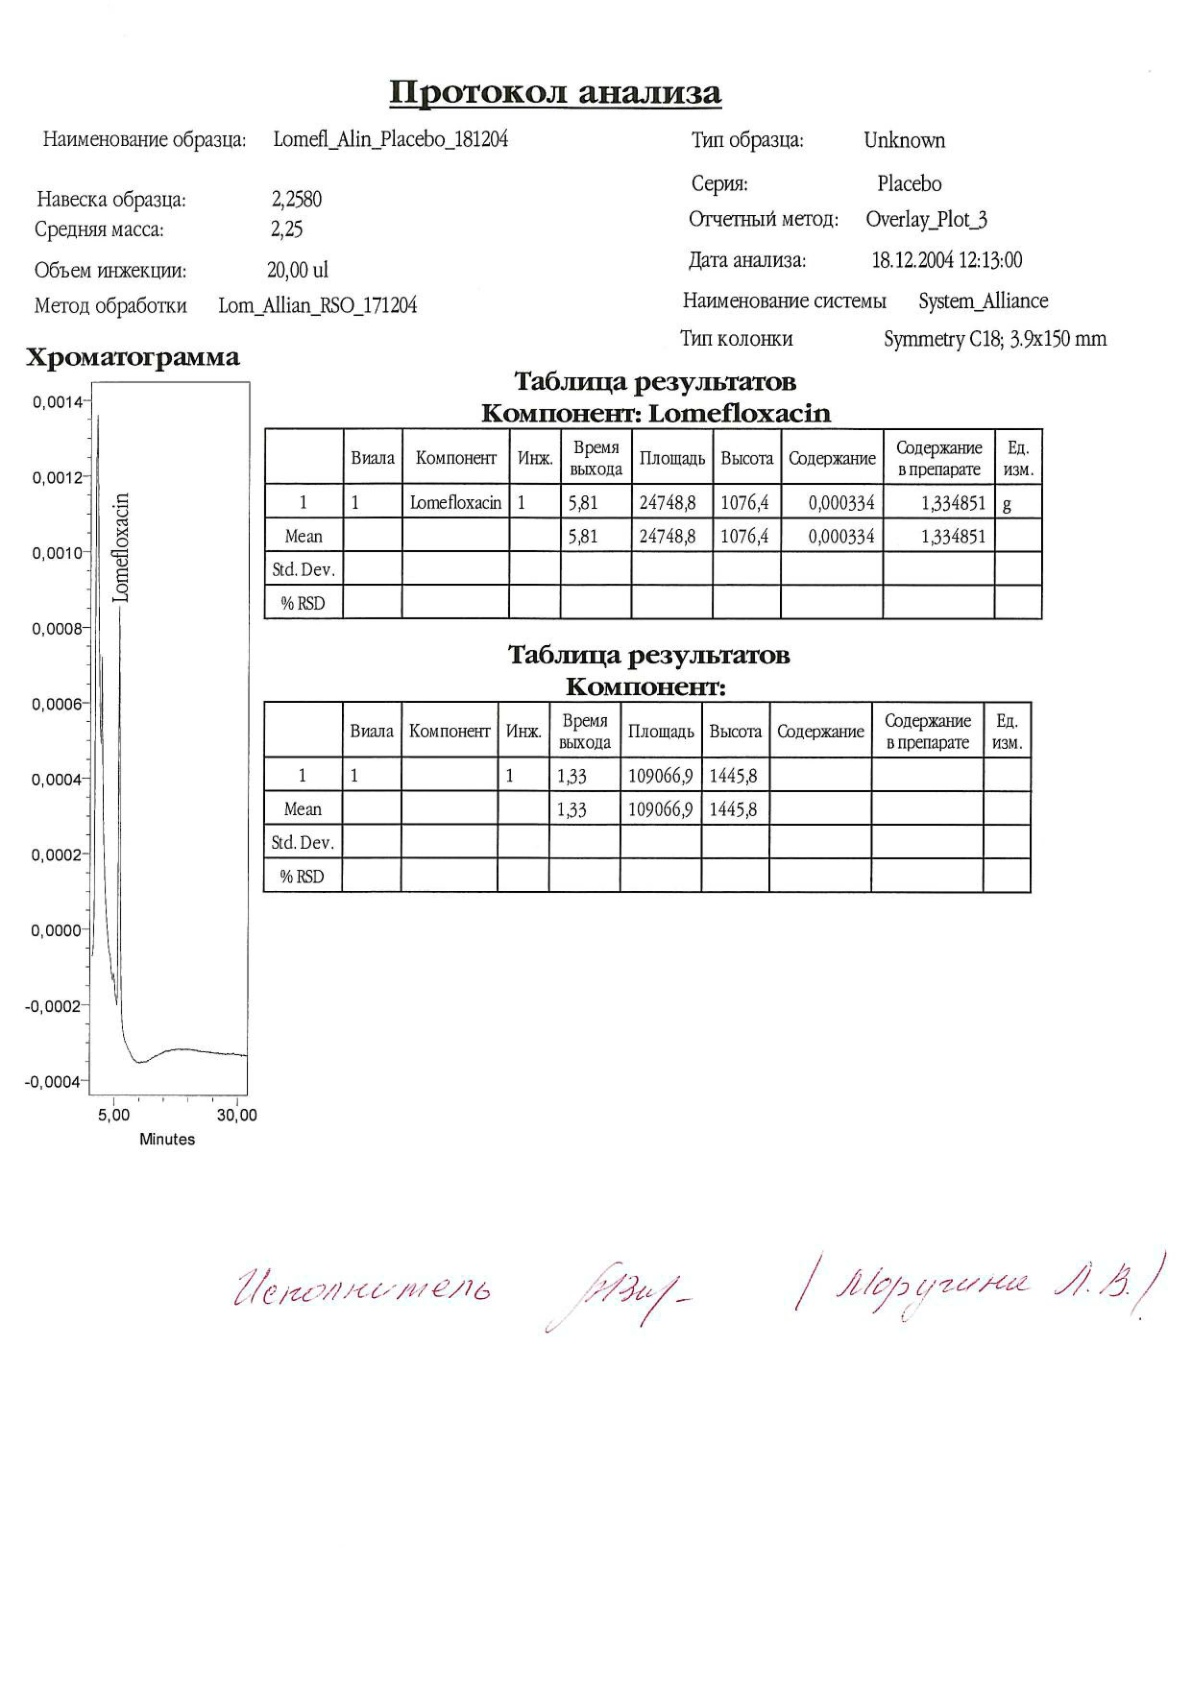full_lined: (263, 426, 1044, 622), (263, 700, 1033, 894)
nolines: (31, 122, 1111, 352)
